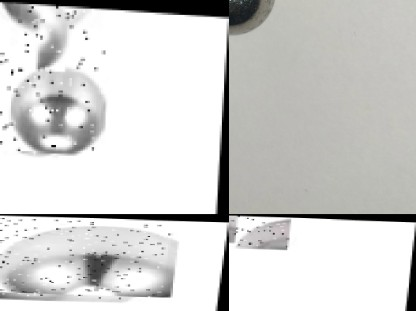ironball: (0, 217, 172, 298), (0, 42, 107, 155), (17, 0, 89, 51), (229, 214, 294, 246), (227, 0, 279, 35)
